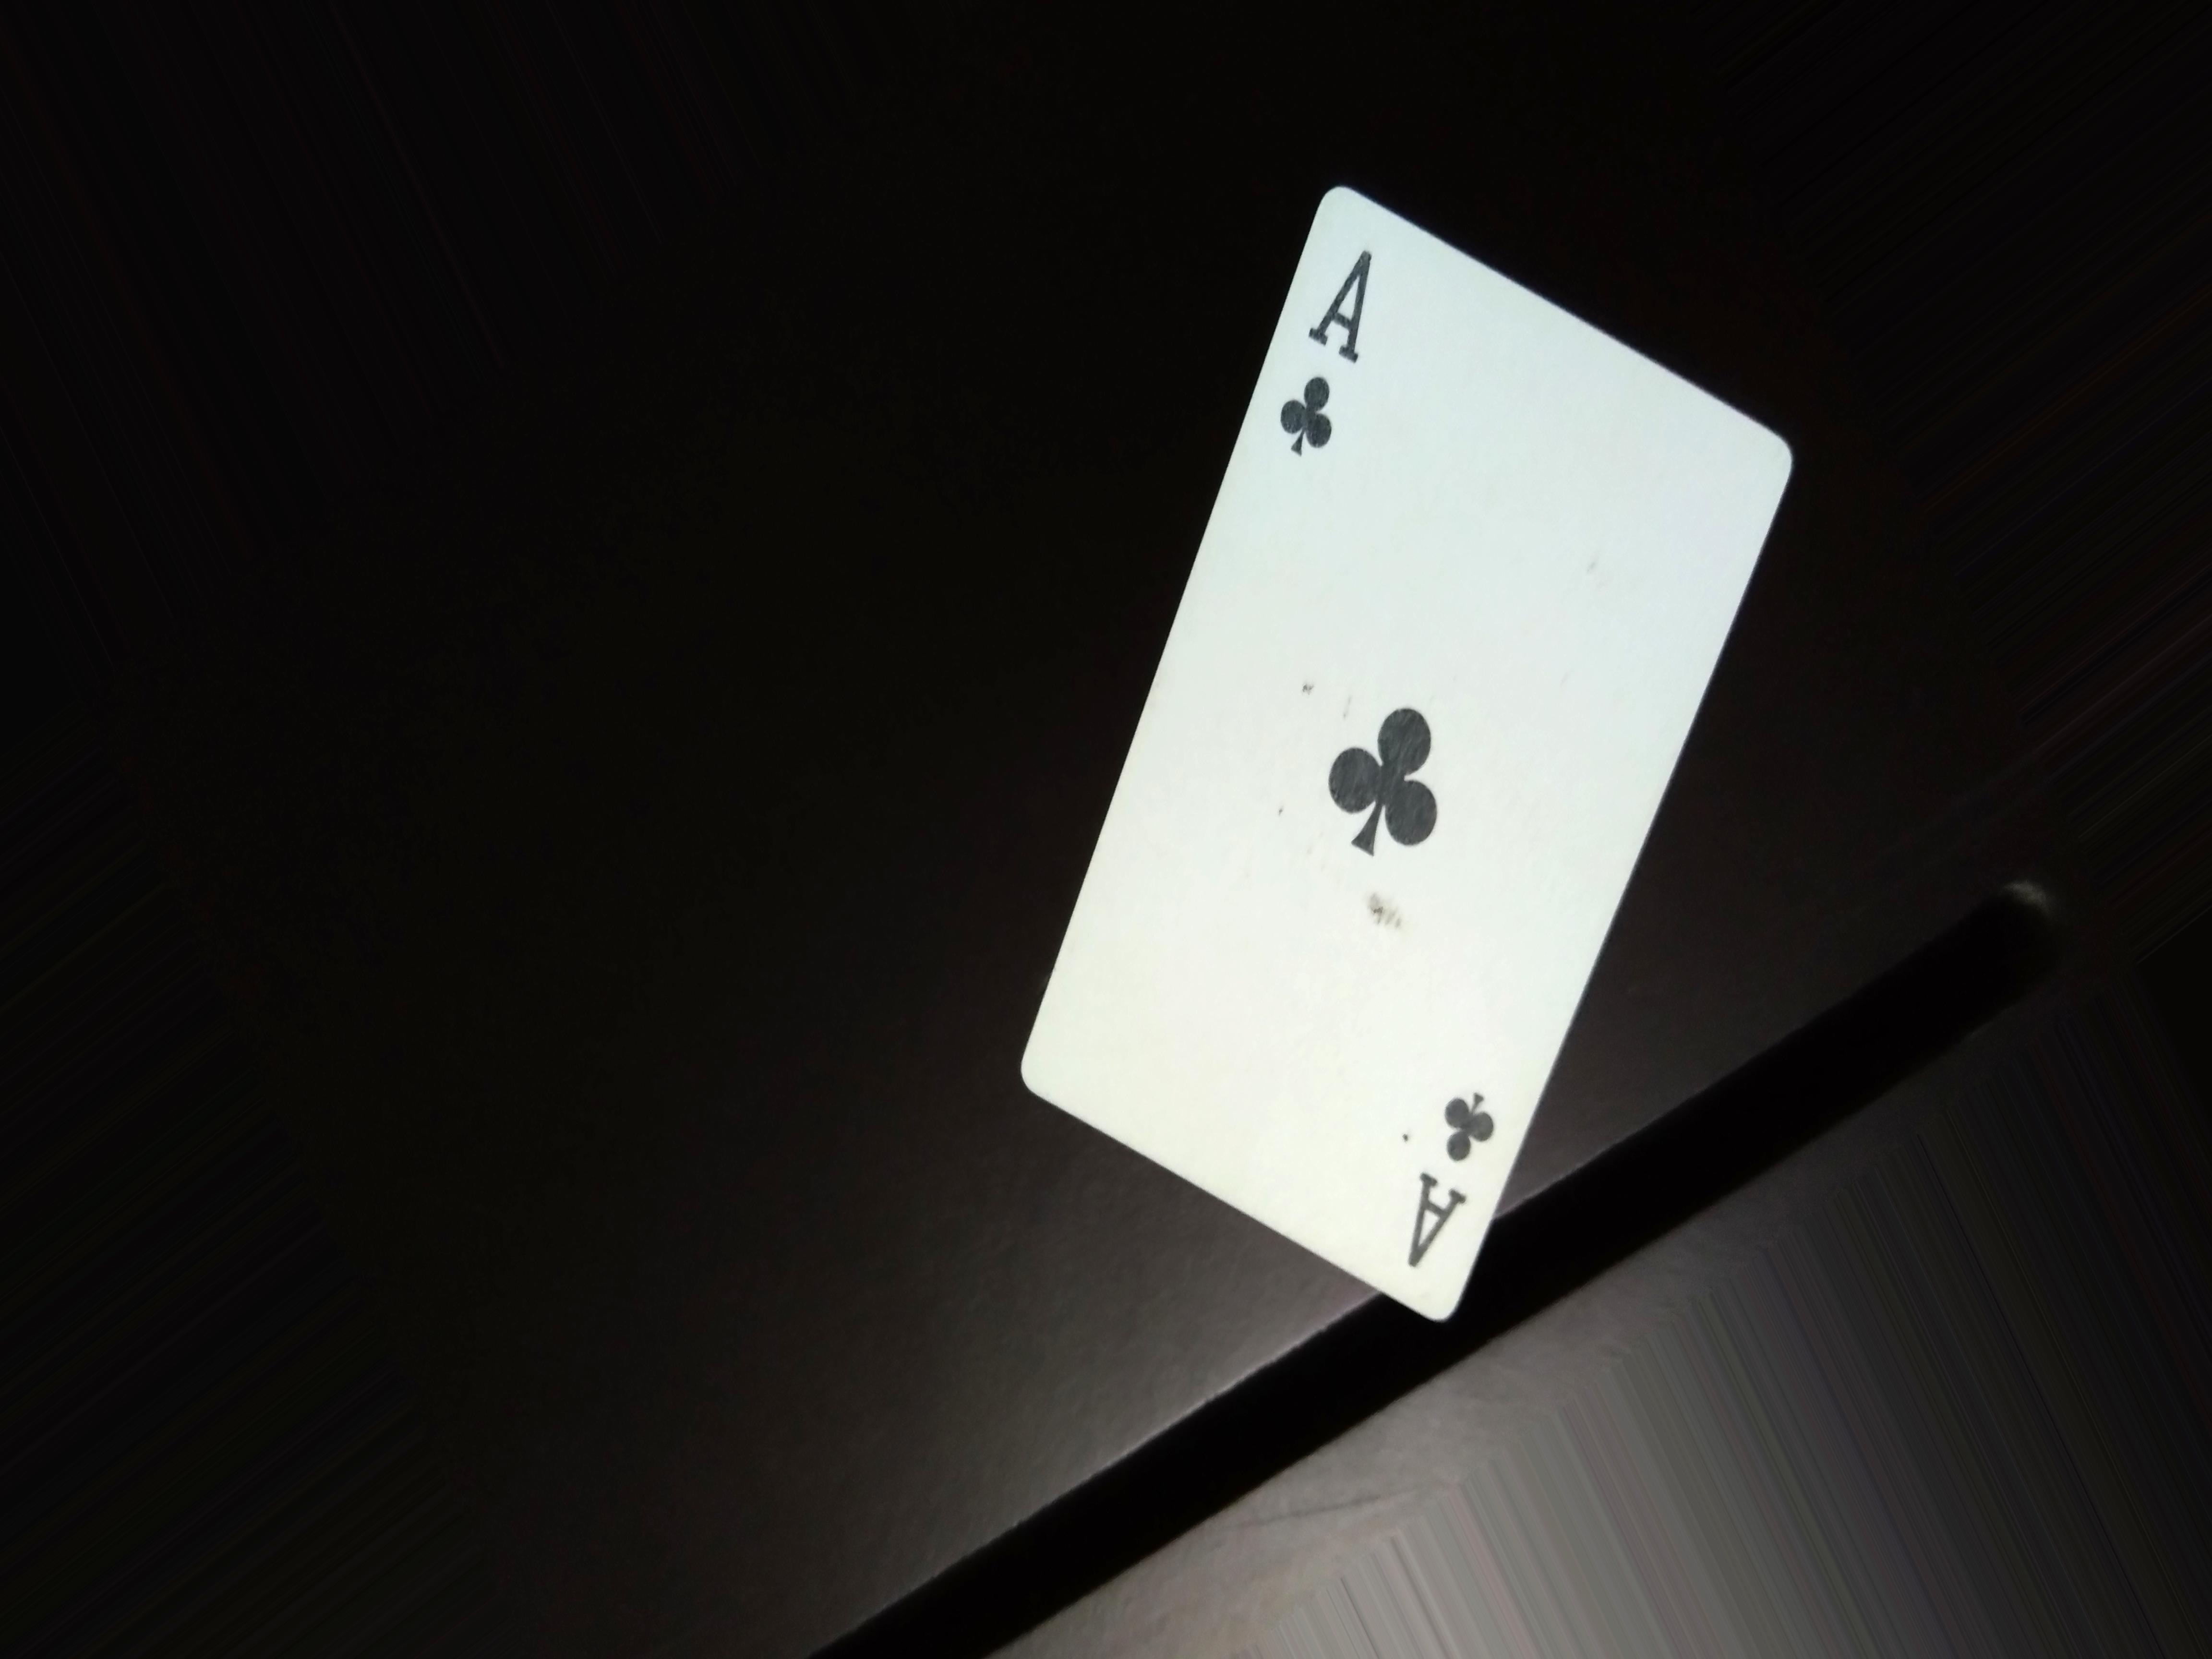AC: (1268, 221, 1399, 493)
